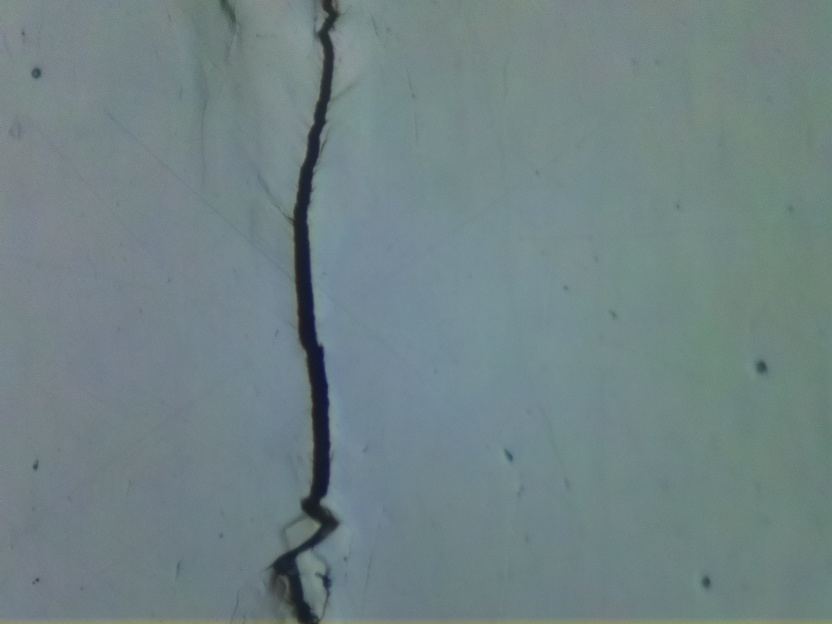crack: (267, 0, 352, 624)
